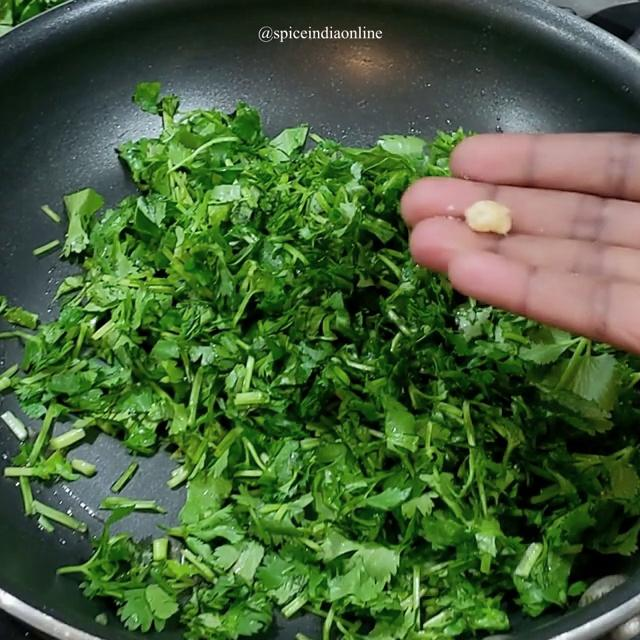cilantro: (121, 142, 432, 625)
